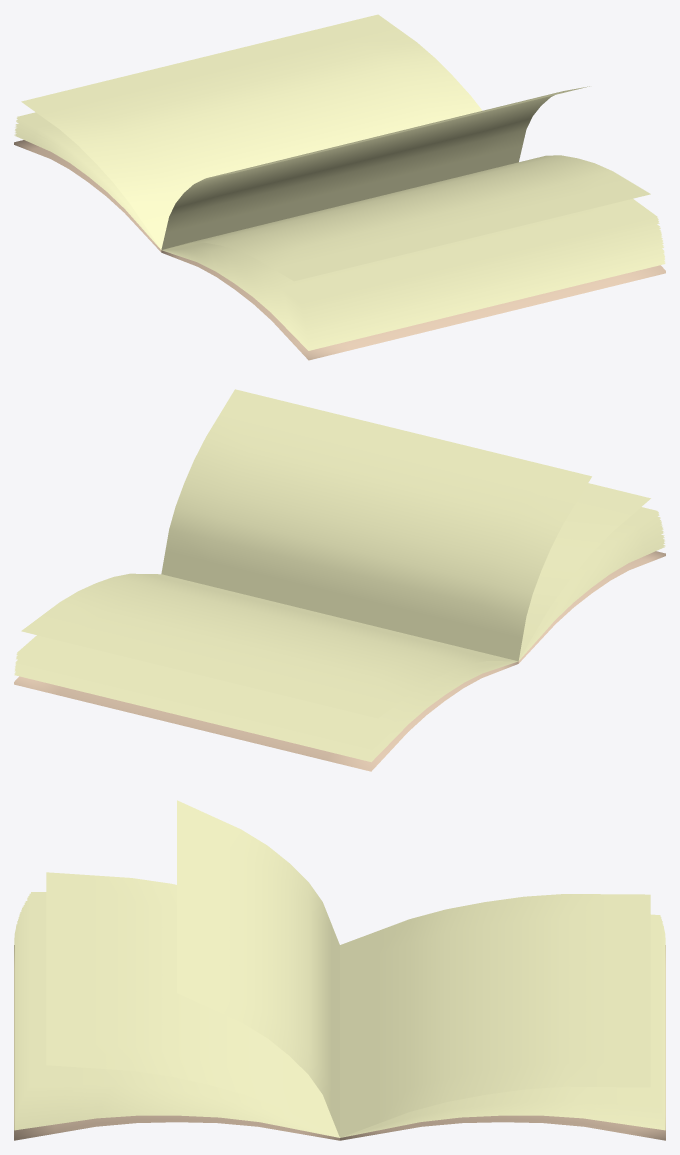
3 renders of one model, top to bottom at view 1: azimuth 30°, elevation 25°; view 2: azimuth 150°, elevation 25°; view 3: azimuth 270°, elevation 25°, orthographic. The views are drawn at different scales.
Visible parts, largest first — view 1: Mesh40_Composant_1_39_Composant_7_1_Model; view 2: Mesh40_Composant_1_39_Composant_7_1_Model; view 3: Mesh40_Composant_1_39_Composant_7_1_Model.
Part boxes in pixels (x1,y1,x2,y2): Mesh40_Composant_1_39_Composant_7_1_Model: [14, 14, 665, 360]; Mesh40_Composant_1_39_Composant_7_1_Model: [14, 389, 665, 771]; Mesh40_Composant_1_39_Composant_7_1_Model: [14, 800, 665, 1140].
Size of the model in its own units: 0.7 by 0.25 by 1.
